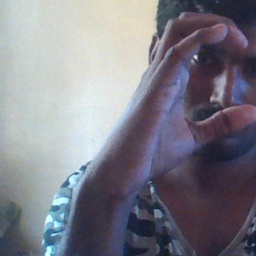C: (155, 4, 256, 135)
